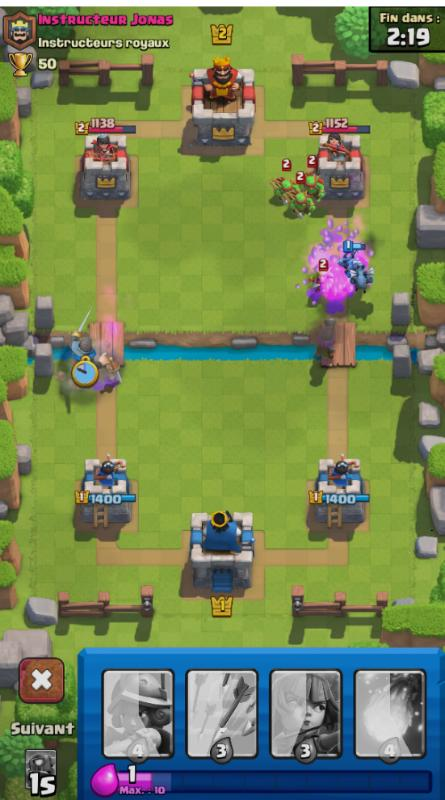chevalier: (64, 305, 110, 379)
gargouille: (344, 261, 376, 296), (333, 250, 369, 274)
gobelin: (302, 261, 335, 297)
gobelin_lances: (279, 188, 322, 218), (295, 166, 329, 203), (272, 174, 300, 203)
